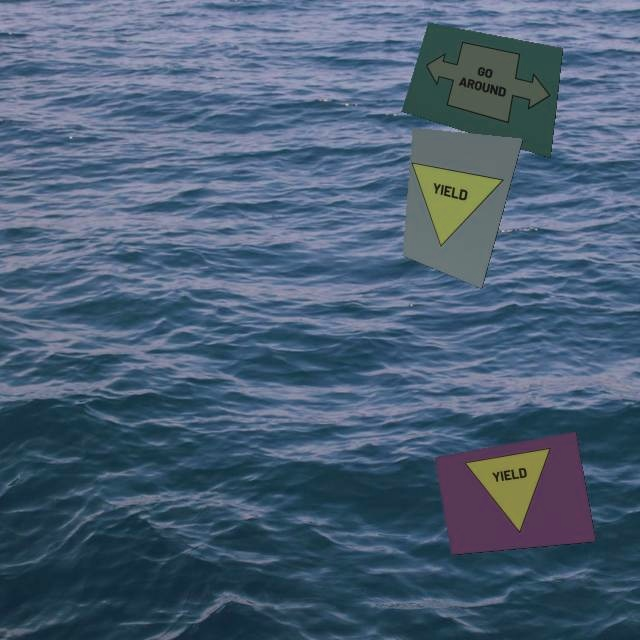GO_AROUND: (413, 36, 563, 134)
YIELD: (402, 163, 504, 264), (458, 448, 571, 538)
